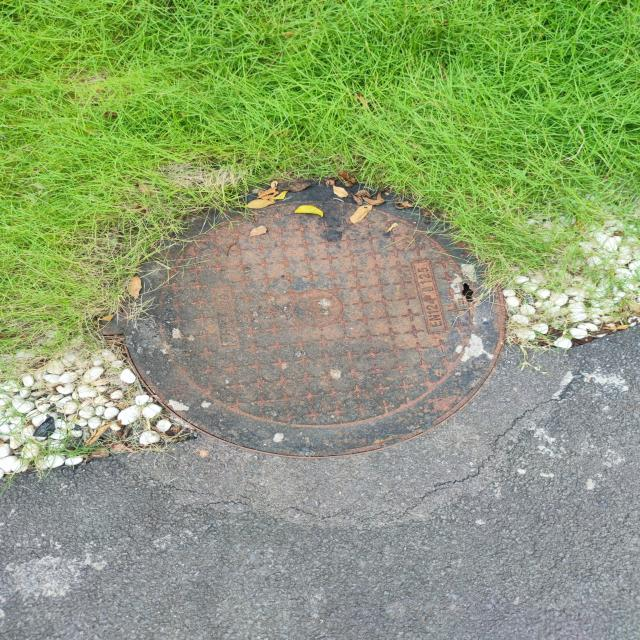Good: (114, 175, 515, 462)
